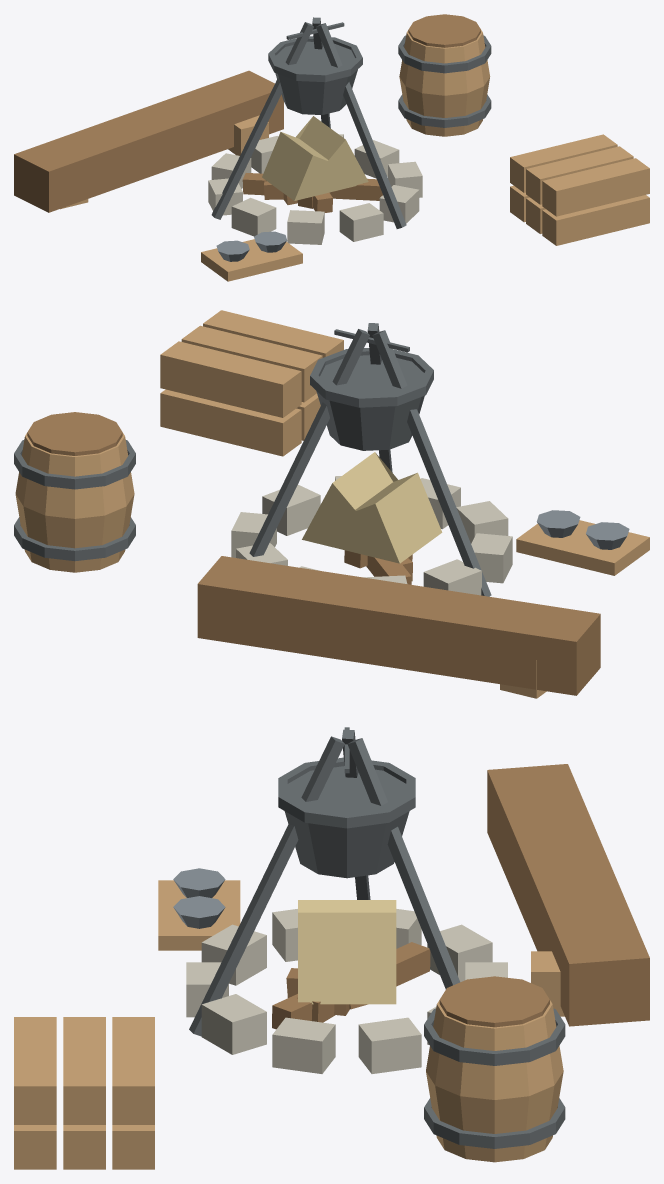
Rendered from cook-fire.glb.
3 renders of one model, top to bottom at view 1: azimuth 30°, elevation 25°; view 2: azimuth 150°, elevation 25°; view 3: azimuth 270°, elevation 25°, orthographic. The views are drawn at different scales.
Visible parts, largest first — view 1: cook-fire; view 2: cook-fire; view 3: cook-fire.
Boxes of the visible parts, x1,y1,x2,y2 form: cook-fire: (14,14,649,281); cook-fire: (14,310,649,698); cook-fire: (14,727,649,1169).
Size of the model in its own units: 4.84 by 1.83 by 3.88.
